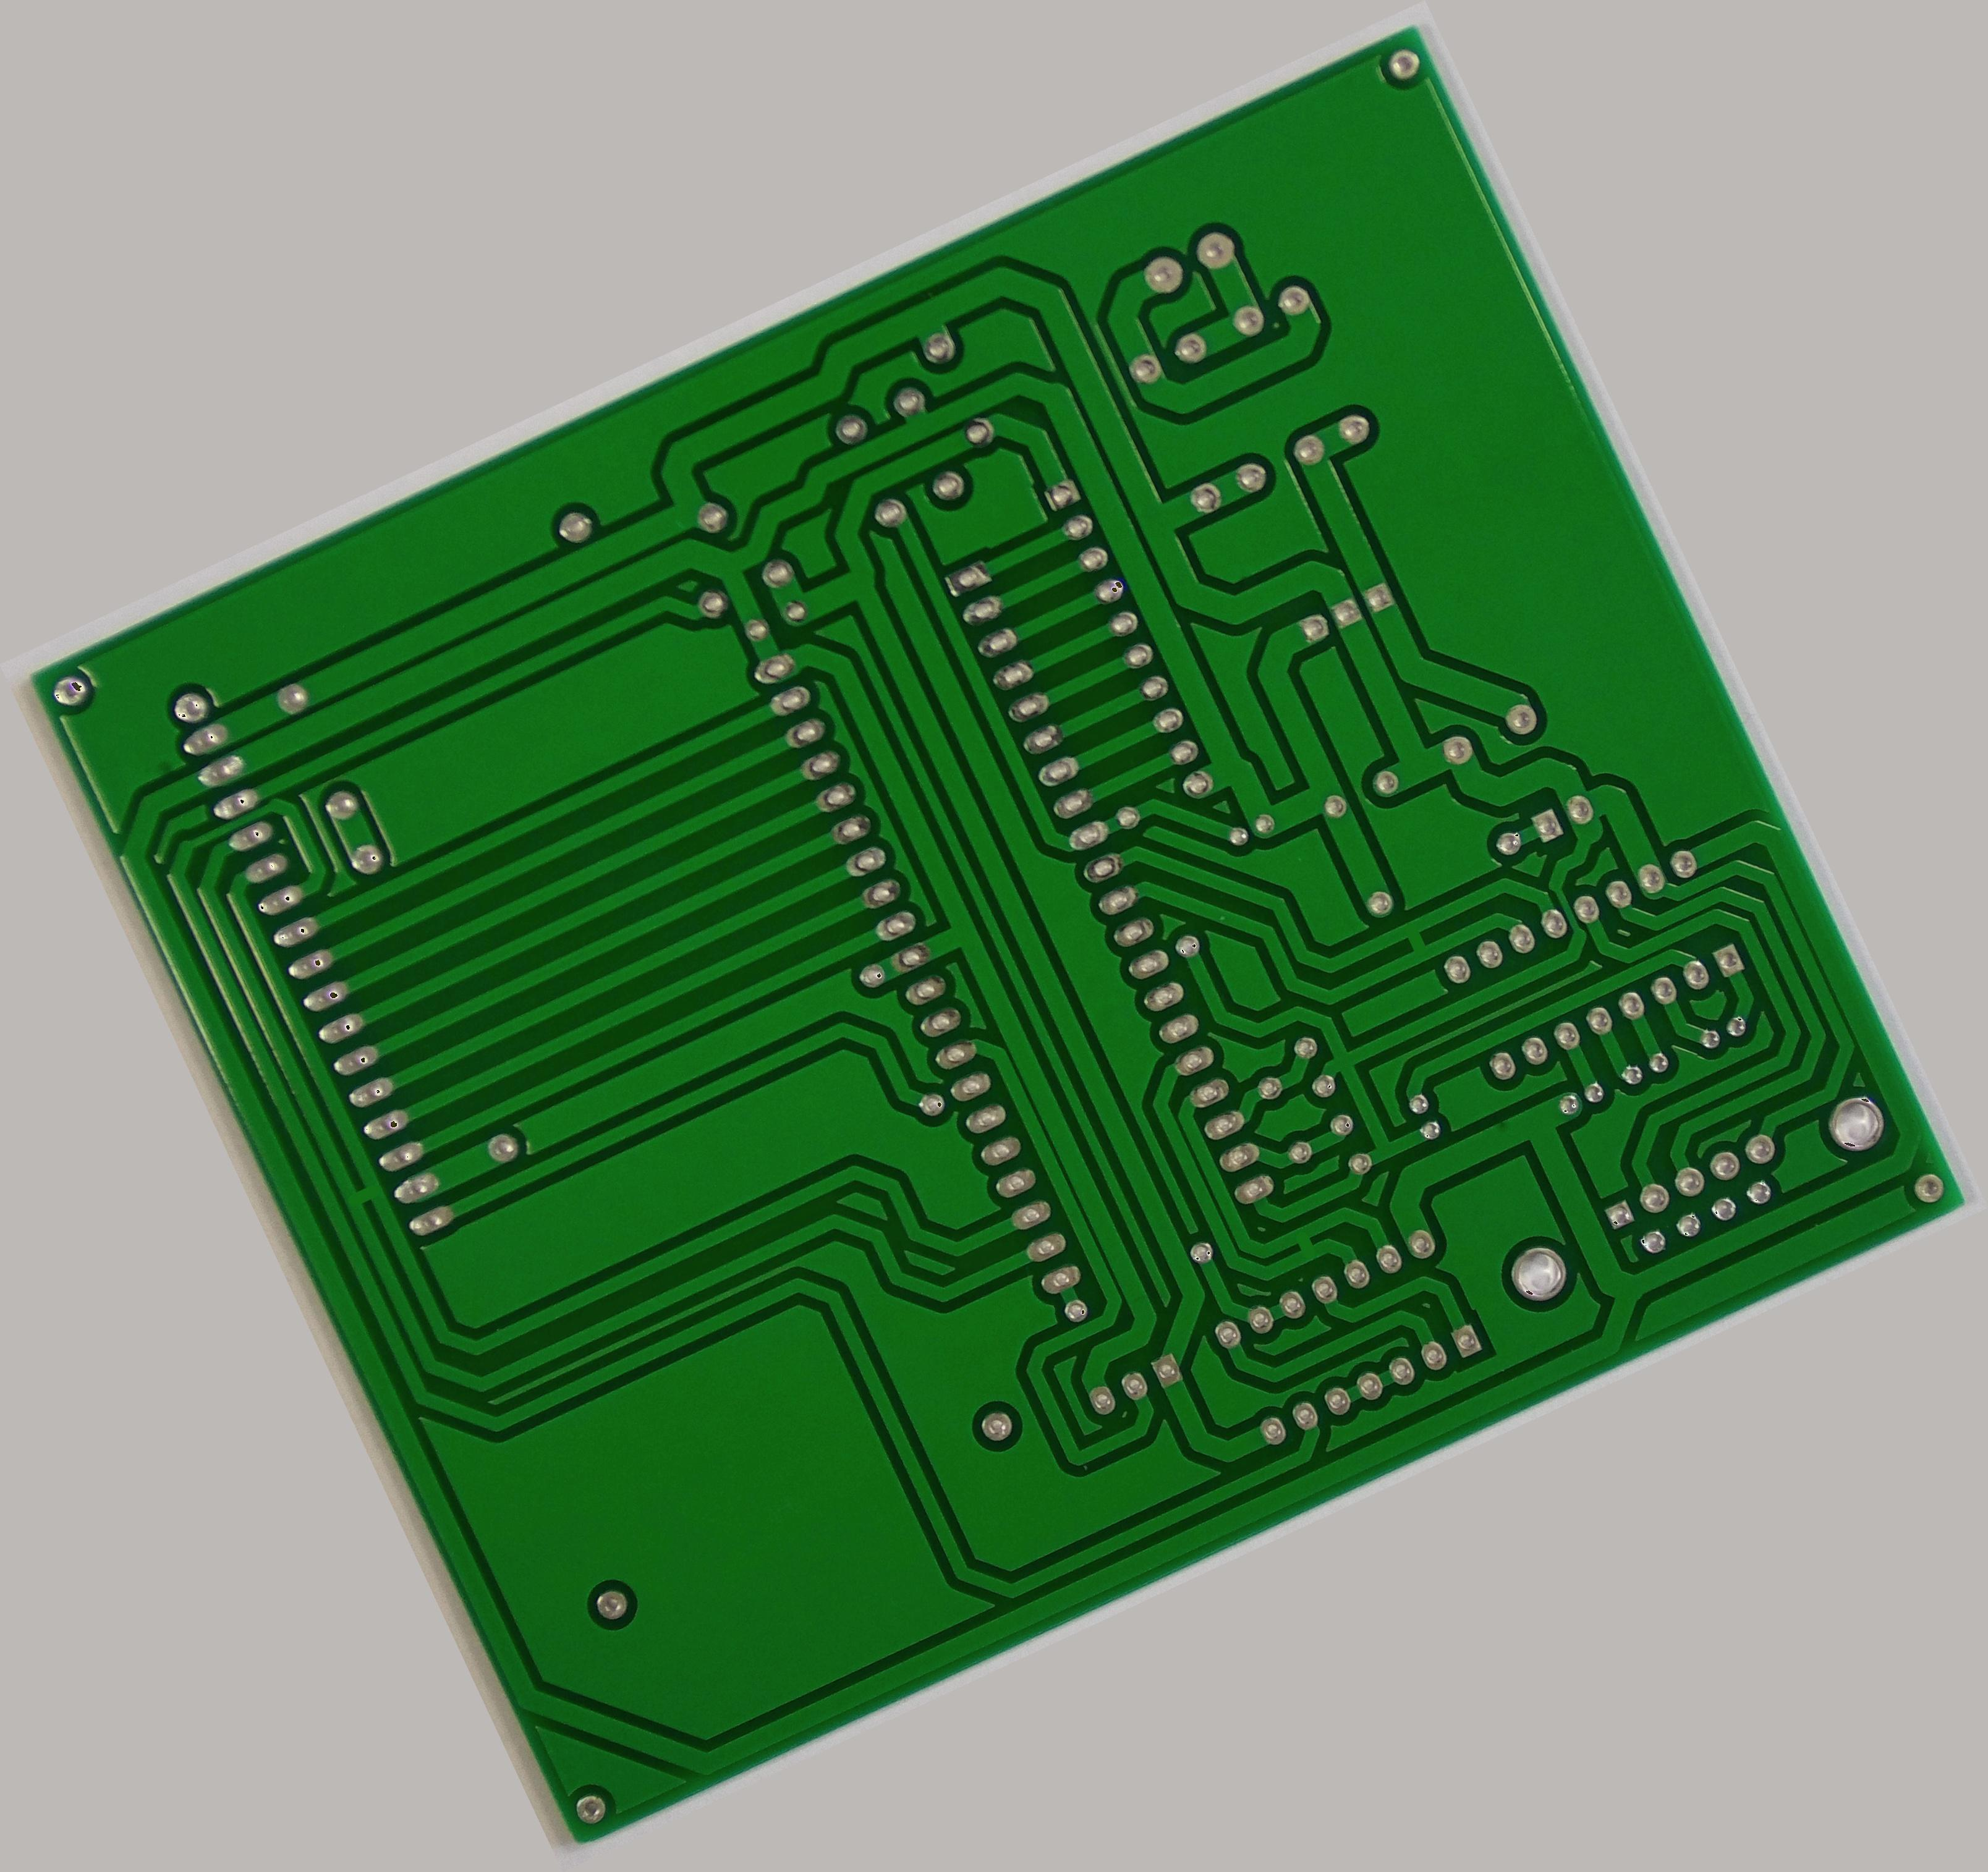short: (1383, 911, 1444, 973), (1277, 1214, 1332, 1269), (334, 1168, 391, 1221)
